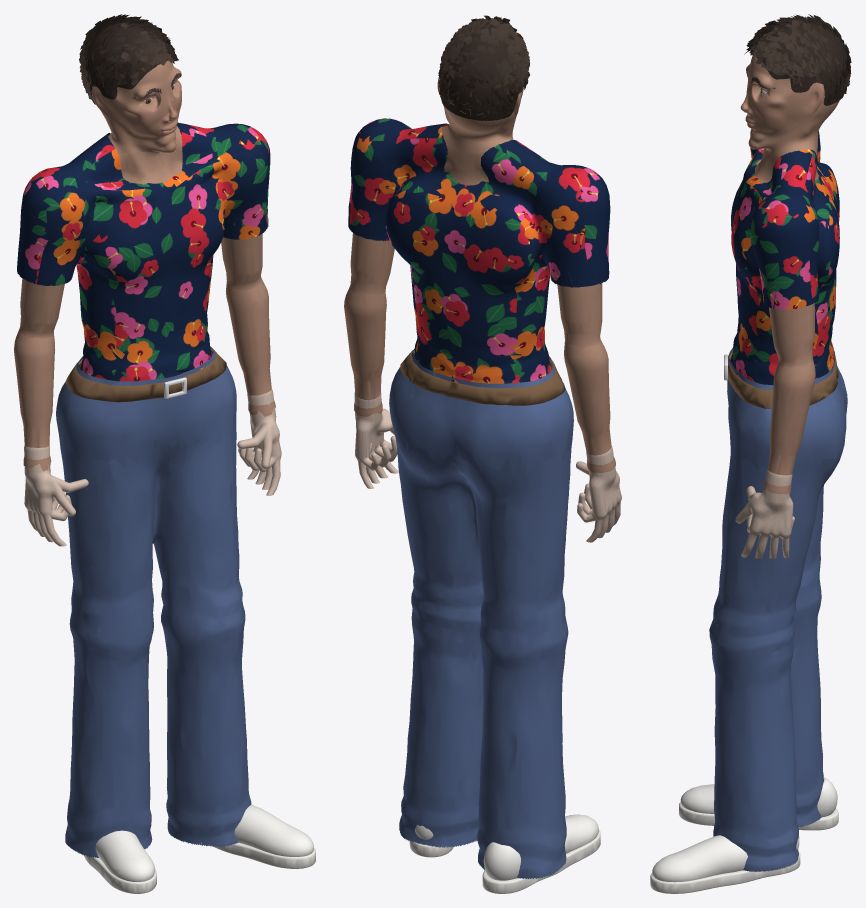
The model's file is daniel.glb.
The picture shows the model from 3 angles, left to right: view 1: azimuth 30°, elevation 25°; view 2: azimuth 150°, elevation 25°; view 3: azimuth 270°, elevation 25°; orthographic projection. The views are drawn at different scales.
Visible parts, largest first — view 1: legL, legR, tank, trousers, skin, sleeveR, hair, foreR, foreL, sleeveL, belt, fingersR (+5 smaller); view 2: legR, tank, legL, trousers, hair, sleeveR, foreR, foreL, sleeveL, skin, belt, armR (+5 smaller); view 3: legL, tank, legR, sleeveL, hair, skin, trousers, foreL, fingersL, armL, fistL, belt.
Boxes of the visible parts, left/top/right/bottom form: legL: left=152, top=420, right=315, bottom=868; legR: left=59, top=436, right=171, bottom=893; tank: left=40, top=122, right=245, bottom=381; trousers: left=56, top=346, right=236, bottom=467; skin: left=91, top=60, right=182, bottom=184; sleeveR: left=17, top=172, right=89, bottom=285; hair: left=79, top=14, right=181, bottom=104; foreR: left=14, top=331, right=54, bottom=471; foreL: left=226, top=279, right=275, bottom=416; sleeveL: left=223, top=123, right=270, bottom=239; belt: left=66, top=348, right=226, bottom=402; fingersR: left=24, top=445, right=75, bottom=546; legR: left=450, top=444, right=600, bottom=893; tank: left=366, top=119, right=582, bottom=383; legL: left=393, top=427, right=483, bottom=857; trousers: left=389, top=349, right=573, bottom=475; hair: left=438, top=15, right=529, bottom=120; sleeveR: left=543, top=166, right=610, bottom=287; foreR: left=564, top=340, right=615, bottom=472; foreL: left=344, top=288, right=386, bottom=416; sleeveL: left=348, top=118, right=393, bottom=241; skin: left=437, top=77, right=524, bottom=185; belt: left=400, top=350, right=565, bottom=405; armR: left=557, top=283, right=602, bottom=363; legL: left=650, top=443, right=842, bottom=893; tank: left=730, top=135, right=839, bottom=385; legR: left=679, top=485, right=838, bottom=830; sleeveL: left=750, top=196, right=819, bottom=309; hair: left=744, top=14, right=851, bottom=105; skin: left=740, top=55, right=839, bottom=182; trousers: left=727, top=347, right=847, bottom=472; foreL: left=762, top=358, right=815, bottom=494; fingersL: left=735, top=470, right=793, bottom=559; armL: left=769, top=303, right=815, bottom=380; fistL: left=746, top=470, right=794, bottom=537; belt: left=728, top=351, right=838, bottom=408.
Bounding box in the file's own units: 0.5435 × 1.71 × 0.3811.
16 materials, 4 textured.
